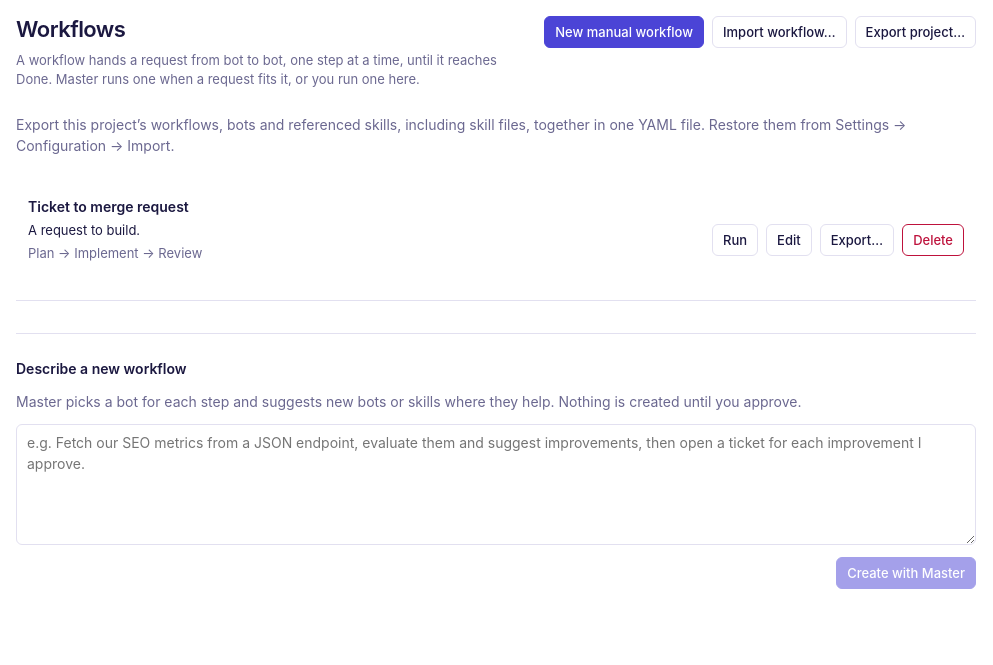
Test: the Workflows page › explains a failed full export and clears the previous success message
Click the button "Export project…" at (915, 32), box [854,16,976,48]
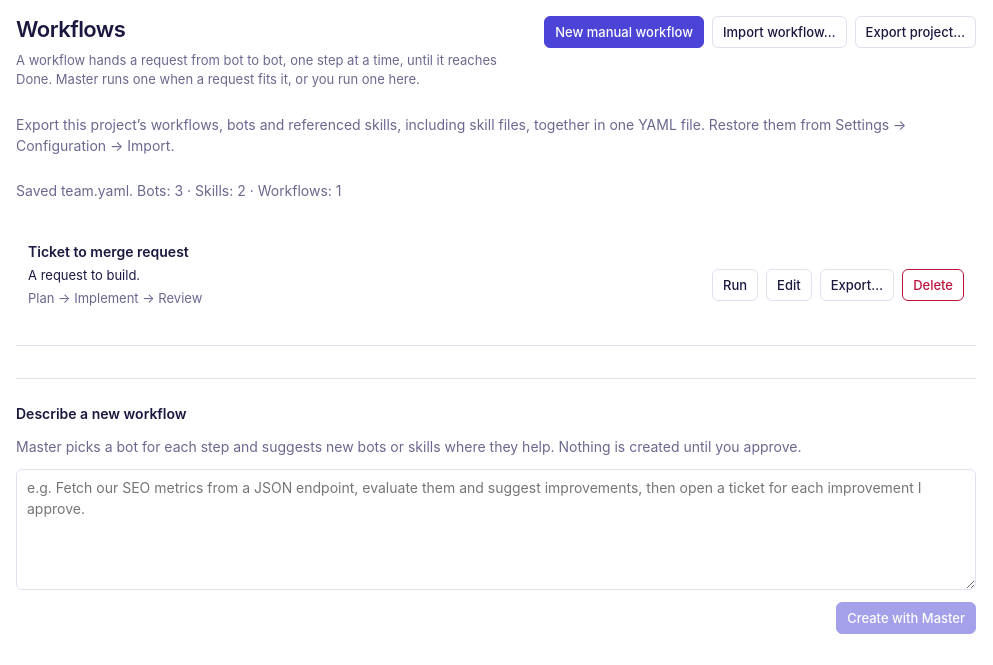
Expected: the message "Saved team.yaml. Bots: 3 · Skills: 2 · Workflows: 1" is shown, [16,182,342,199]
Click the button "Export project…" at (915, 32), box [854,16,976,48]
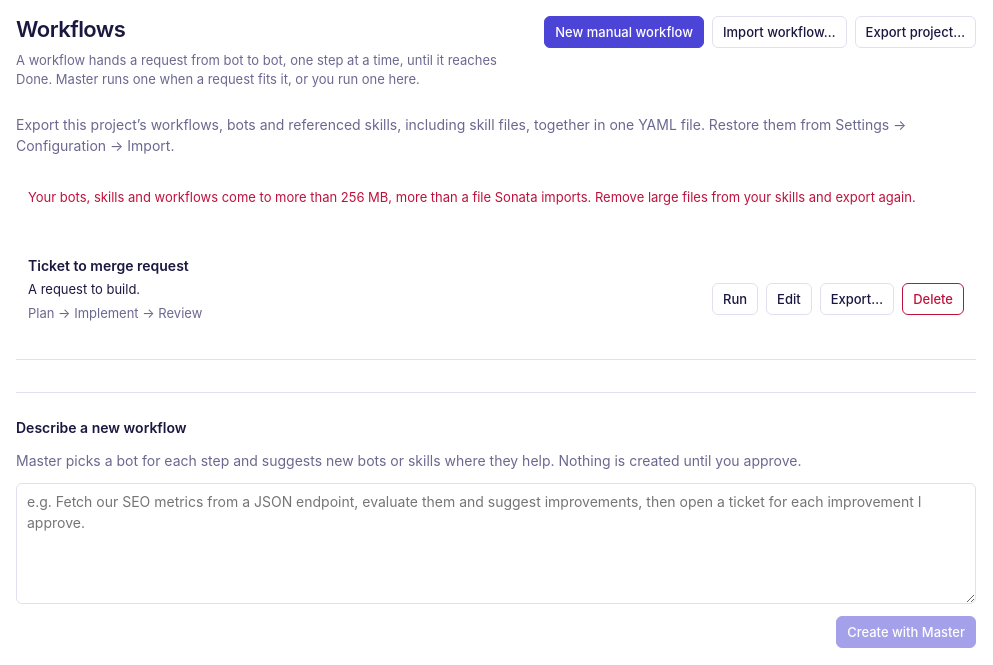
Expected: the message "Saved team.yaml. Bots: 3 · Skills: 2 · Workflows: 1" is gone
Expected: the message shows "more than 256 MB", [28,189,916,205]
